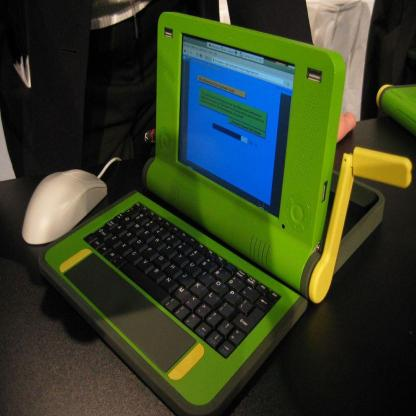board: (34, 32, 363, 403), (376, 83, 416, 140)
